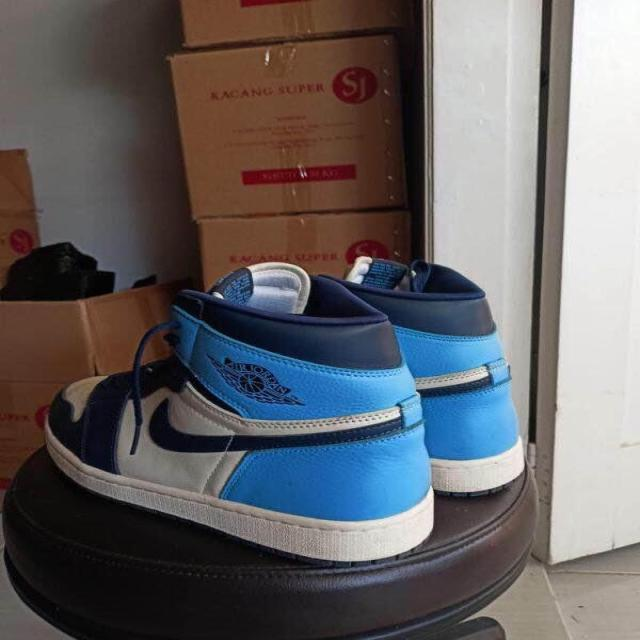nike original jordan 1: (42, 262, 444, 568), (335, 258, 542, 500)
